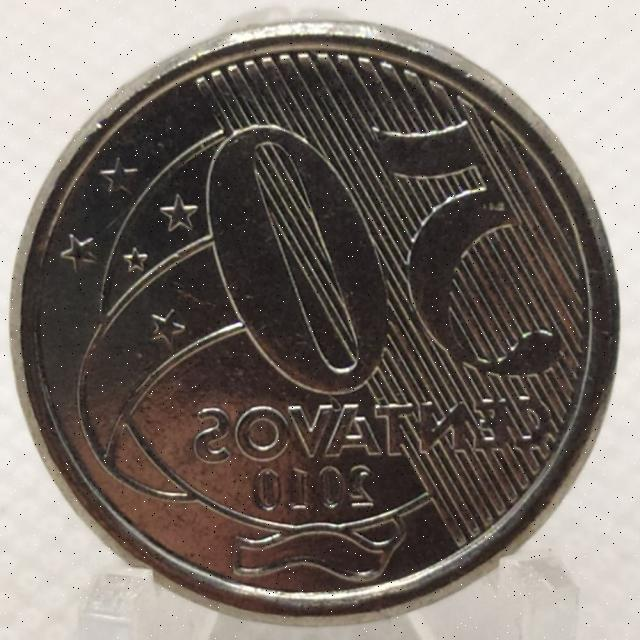50 cent: (9, 18, 620, 622)
